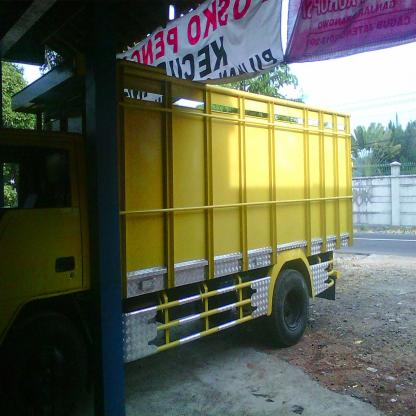truck: (1, 53, 355, 416)
